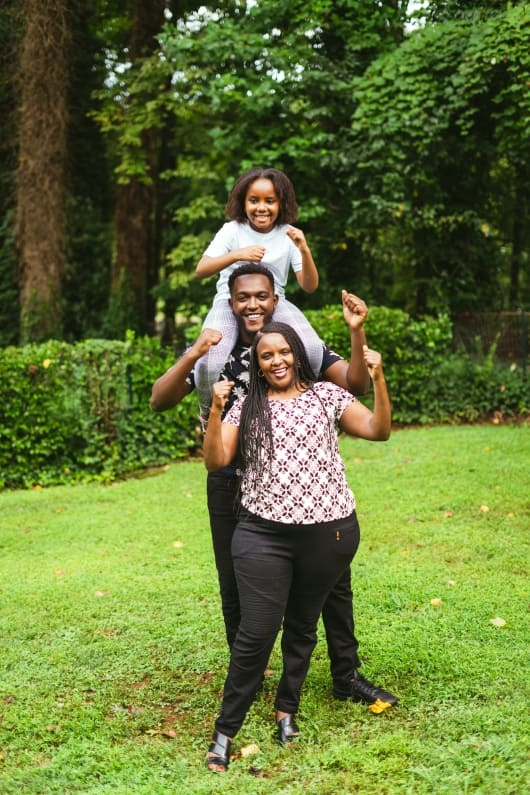person: (154, 262, 368, 706), (204, 325, 386, 752), (196, 172, 324, 410)
